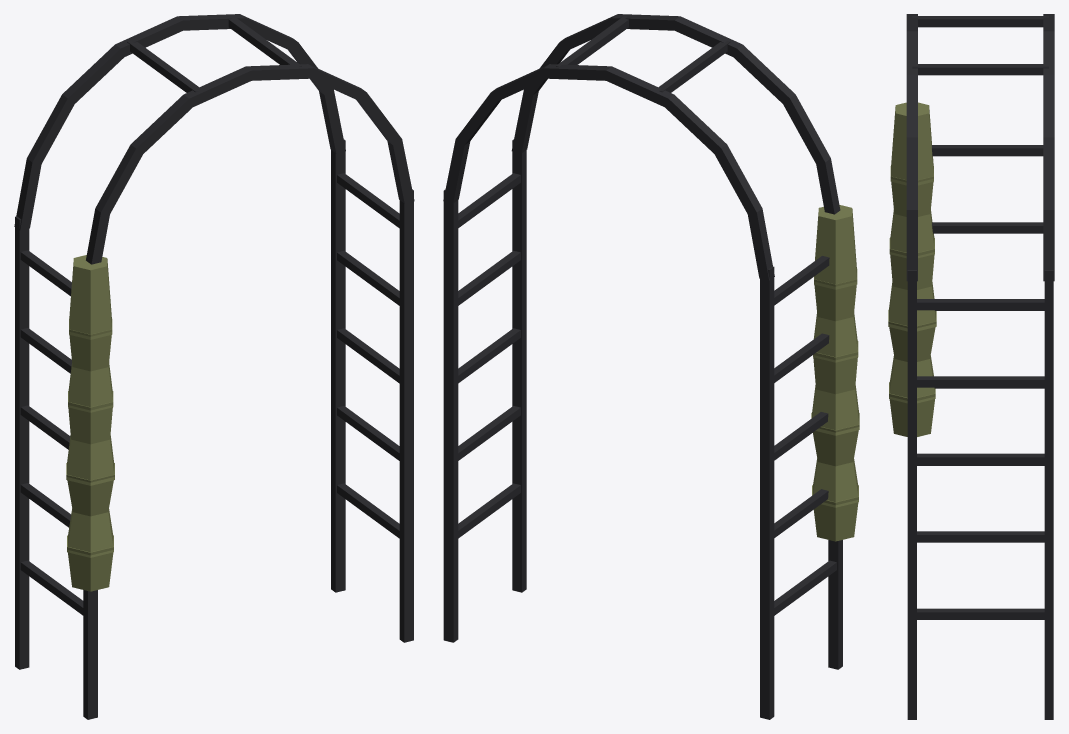
File: FN_Arch_Garden.obj
The picture shows the model from 3 angles, left to right: view 1: azimuth 30°, elevation 25°; view 2: azimuth 150°, elevation 25°; view 3: azimuth 270°, elevation 25°; orthographic projection.
Parts seen in each view (by area): view 1: FN_Arch_Garden; view 2: FN_Arch_Garden; view 3: FN_Arch_Garden.
Part boxes in pixels (box(x1,y1,x2,y2)): FN_Arch_Garden: box(14, 14, 414, 719); FN_Arch_Garden: box(443, 14, 859, 719); FN_Arch_Garden: box(888, 14, 1054, 719).
Size of the model in its own units: 1.4 by 2.36 by 0.5849.
1 material, 1 textured.
